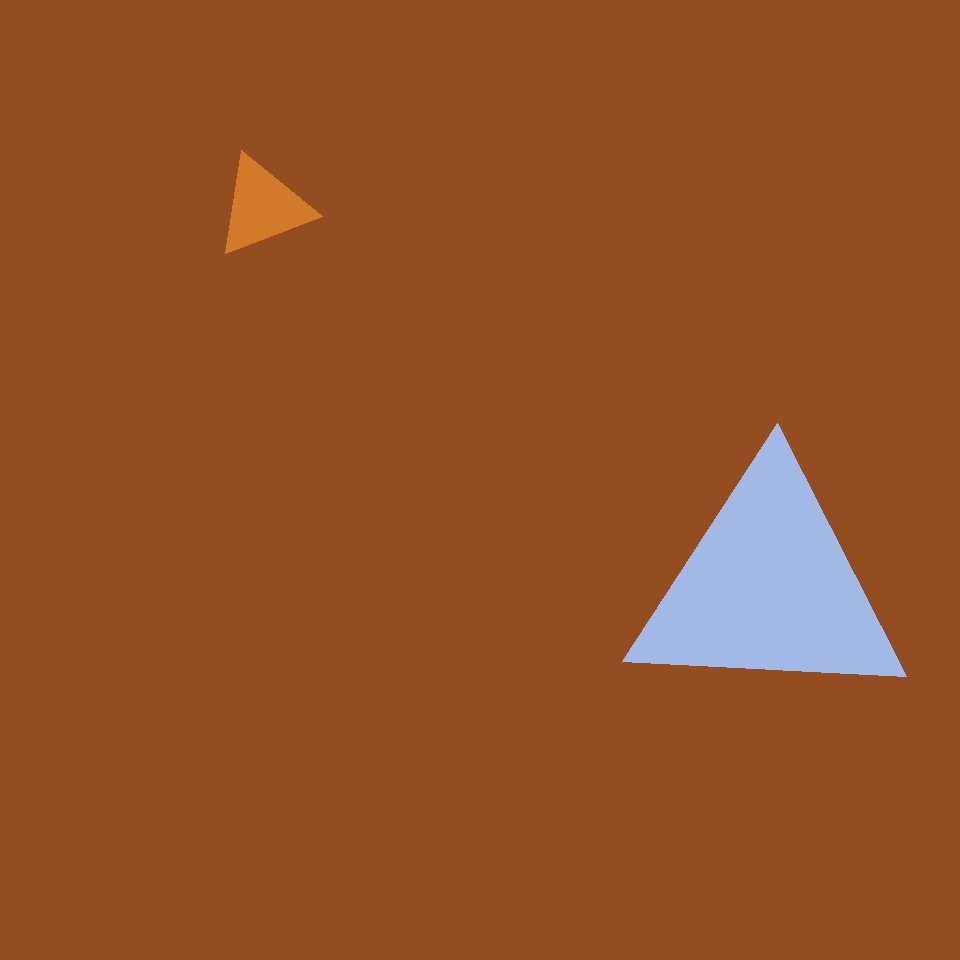circle: (627, 460, 911, 714), (214, 156, 312, 258)
